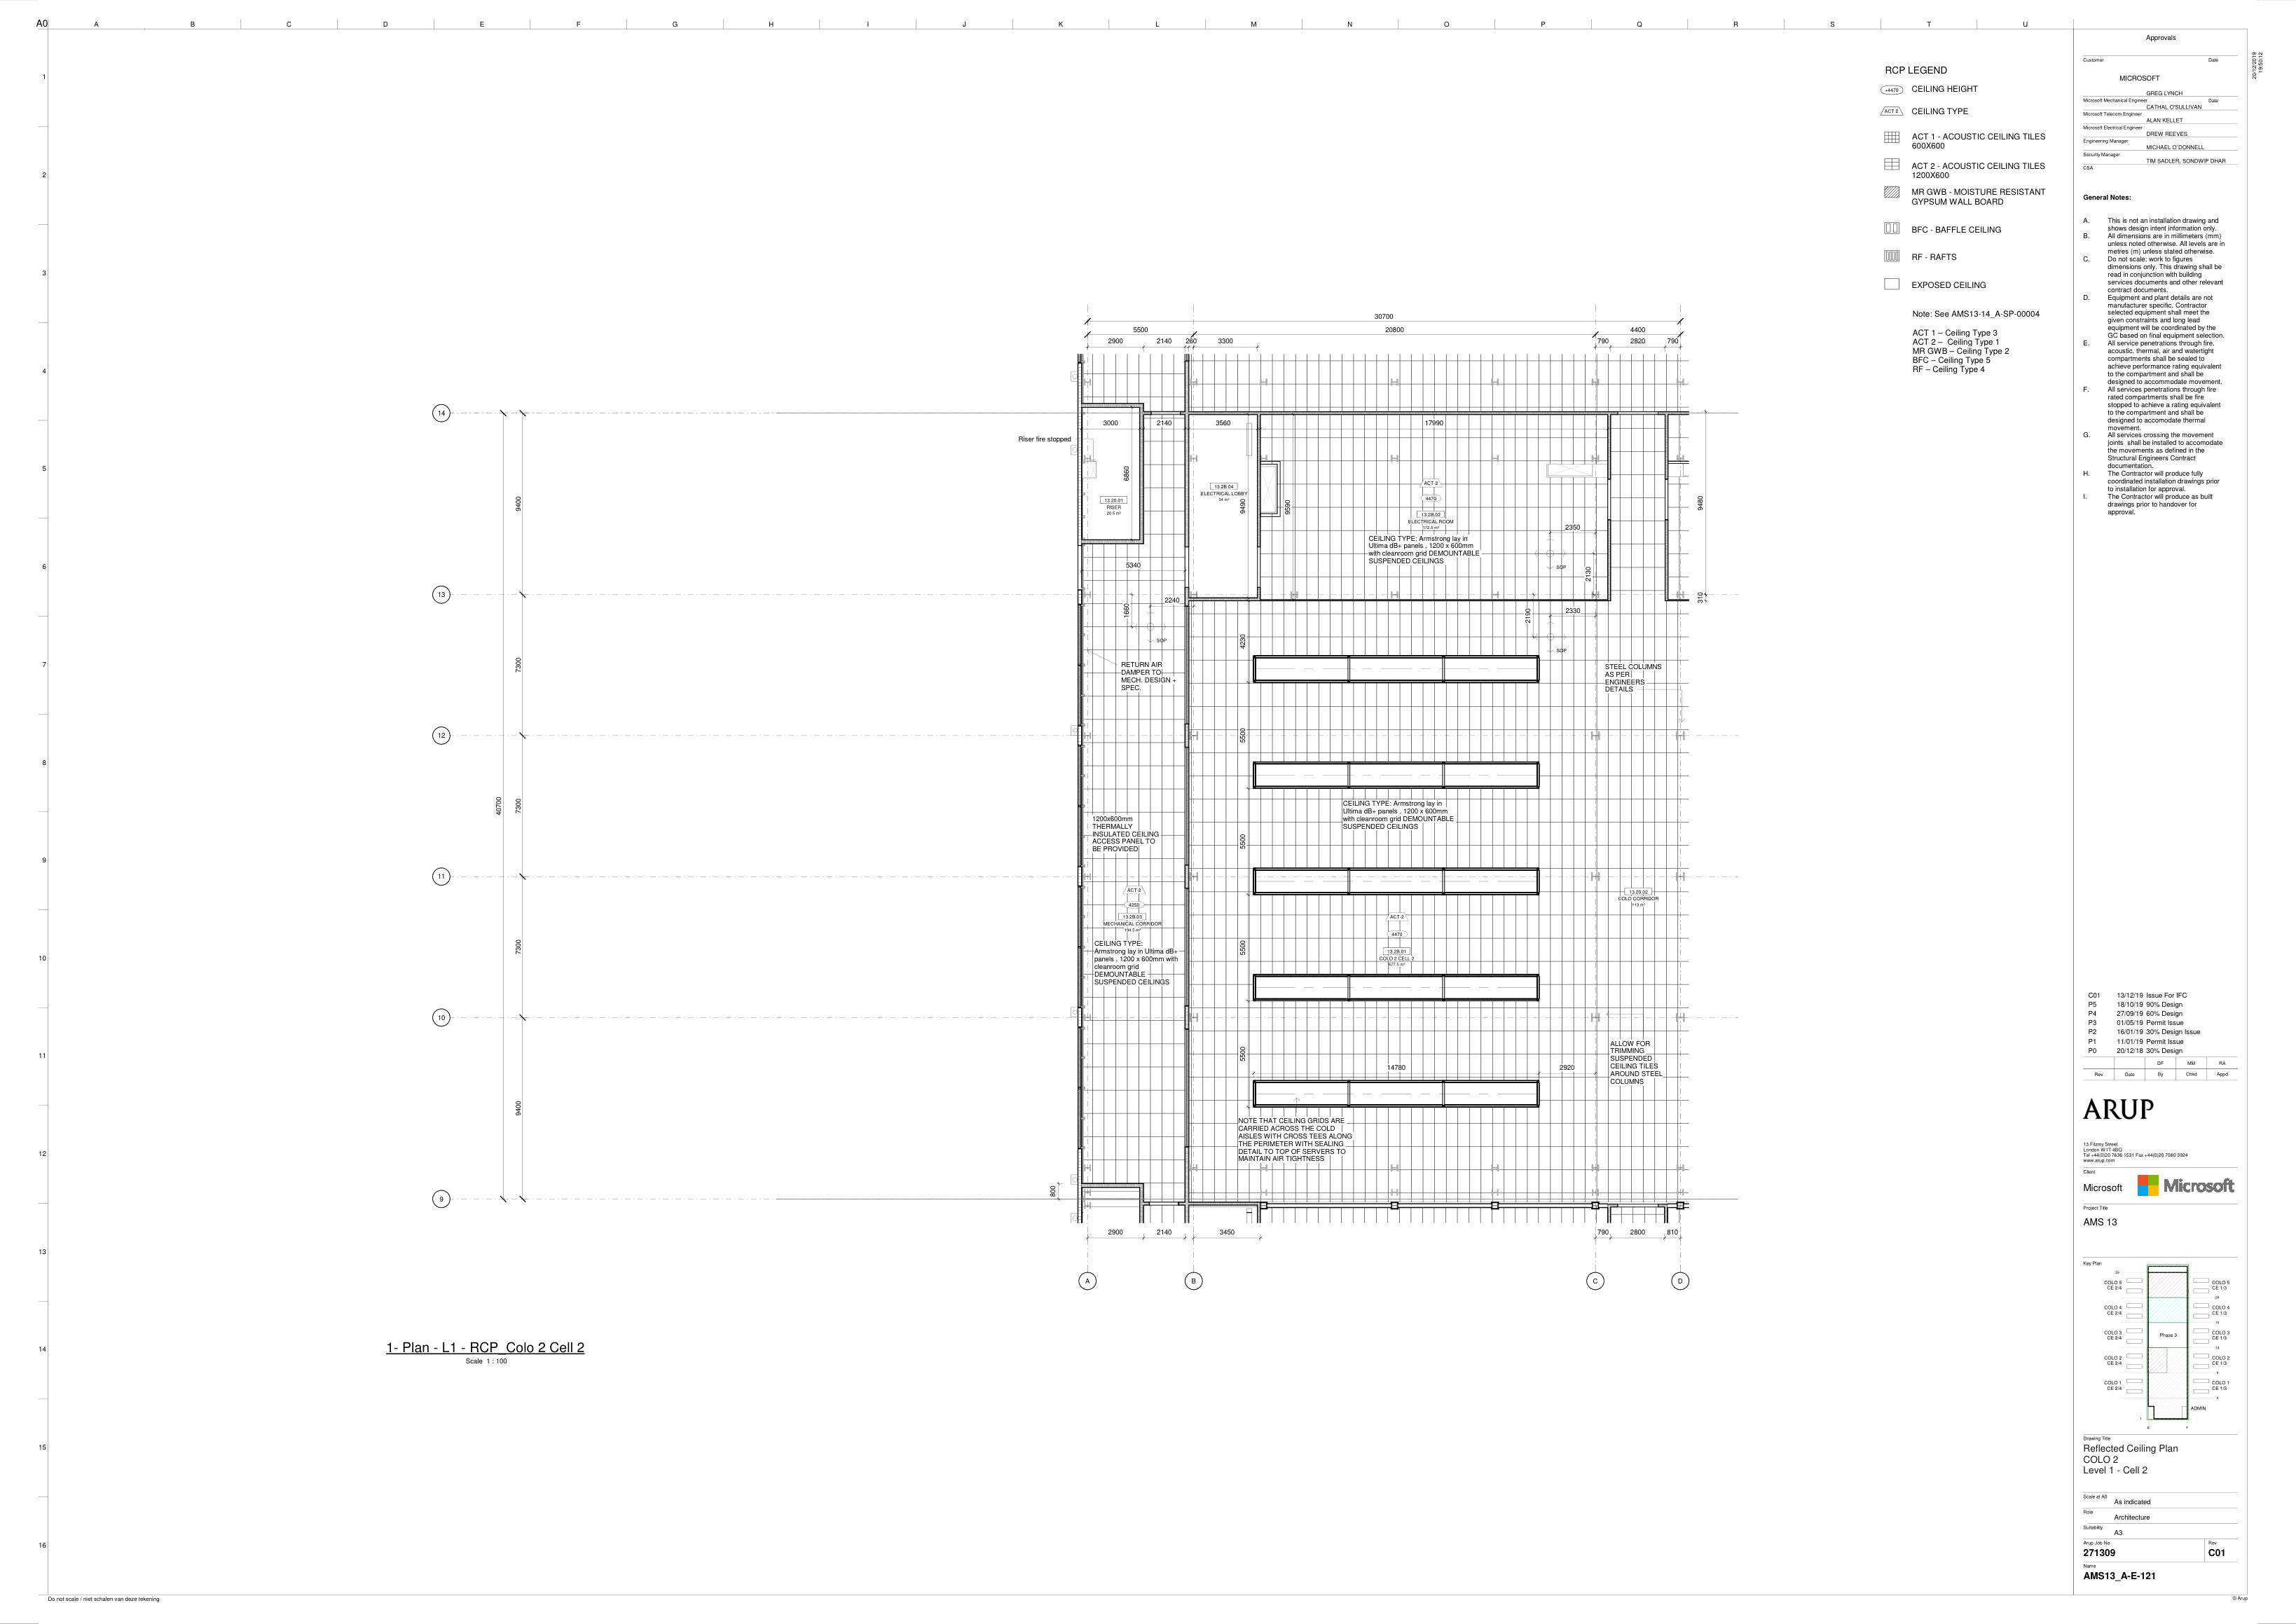Legend: (1874, 62, 2050, 376)
